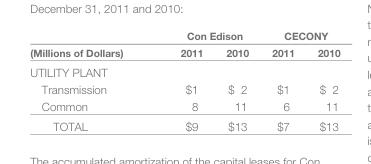table: (29, 29, 339, 132)
table column: (29, 29, 151, 132), (151, 29, 213, 132), (213, 29, 259, 132), (259, 29, 305, 132), (305, 29, 339, 132)
table column header: (29, 29, 339, 61)
table projected row header: (29, 61, 339, 80)
table row: (29, 61, 339, 80), (29, 96, 339, 115), (29, 43, 339, 61), (29, 115, 339, 132), (29, 80, 339, 96), (29, 29, 339, 43)
table spanning cell: (29, 29, 151, 61), (151, 29, 259, 43), (259, 29, 339, 43)
